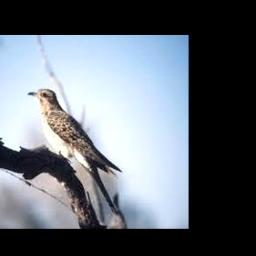Cuckoo: (28, 89, 122, 214)
